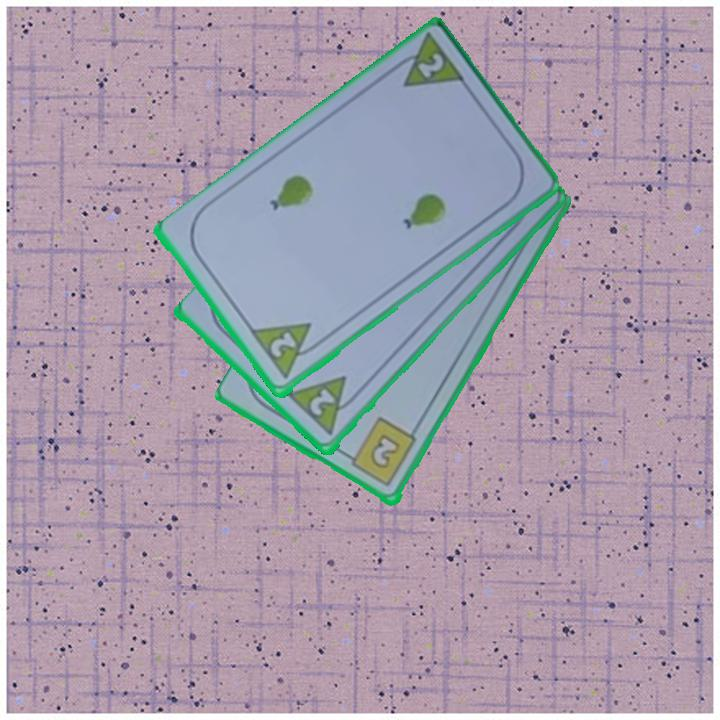2b: (341, 414, 419, 491)
2p: (305, 385, 339, 420), (413, 49, 447, 82), (266, 329, 299, 362)
